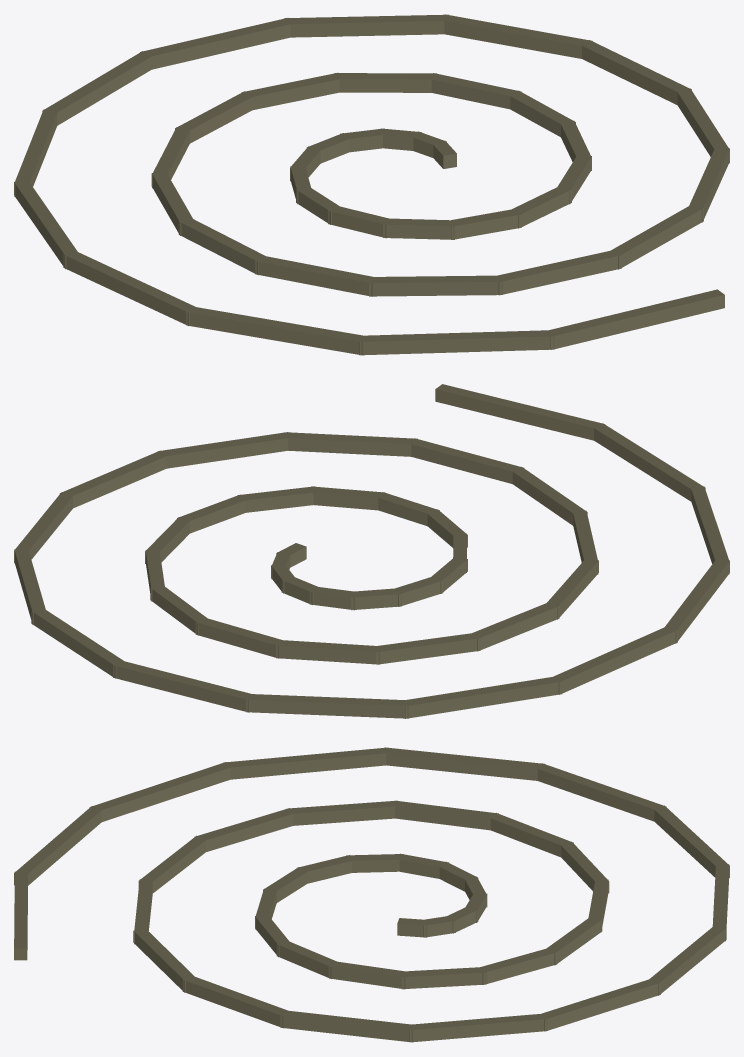
Rendered from SM_Manguera_v3_Enrollada_LOD0.fbx.
3 renders of one model, top to bottom at view 1: azimuth 30°, elevation 25°; view 2: azimuth 150°, elevation 25°; view 3: azimuth 270°, elevation 25°, orthographic. The views are drawn at different scales.
Visible parts, largest first — view 1: SM_farp_betera_v8_LOD0; view 2: SM_farp_betera_v8_LOD0; view 3: SM_farp_betera_v8_LOD0.
Boxes of the visible parts, <box> form: SM_farp_betera_v8_LOD0: <box>14,14,729,355</box>; SM_farp_betera_v8_LOD0: <box>14,384,729,718</box>; SM_farp_betera_v8_LOD0: <box>14,747,729,1042</box>.
Size of the model in its own units: 6.03 by 0.12 by 6.45.
